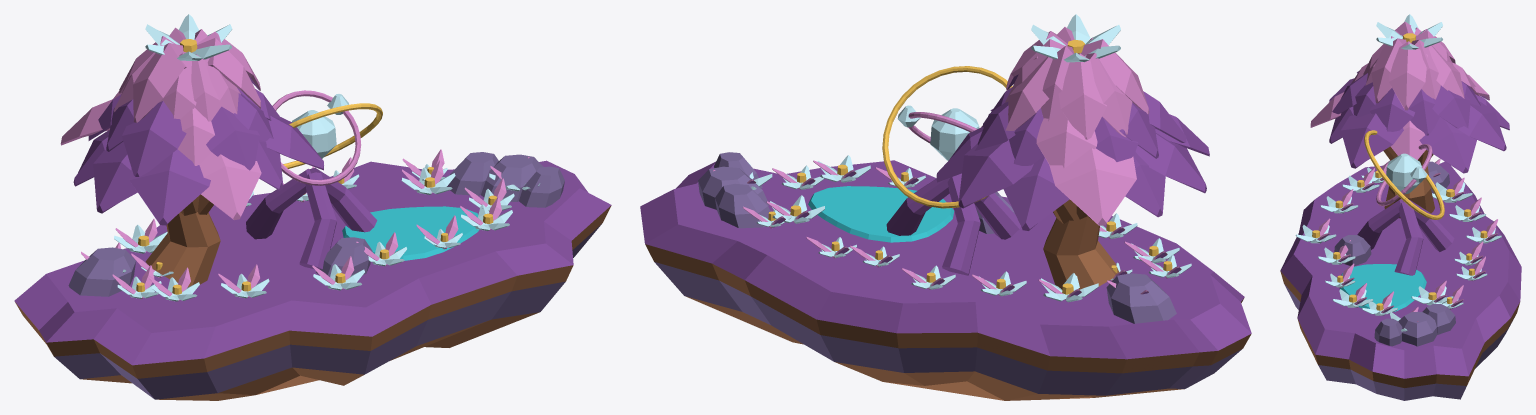
The model's file is nebula.glb.
3 views of the same model, side by side, from view 1: azimuth 30°, elevation 25°; view 2: azimuth 150°, elevation 25°; view 3: azimuth 270°, elevation 25° (orthographic). The views are drawn at different scales.
Parts seen in each view (by area): view 1: terrace-nebula, orrery; view 2: terrace-nebula, orrery; view 3: terrace-nebula, orrery.
Boxes of the visible parts, <box> form: terrace-nebula: <box>14,14,611,400</box>; orrery: <box>272,90,382,185</box>; terrace-nebula: <box>640,14,1251,400</box>; orrery: <box>882,66,1012,208</box>; terrace-nebula: <box>1280,14,1521,400</box>; orrery: <box>1364,130,1444,219</box>.
Size of the model in its own units: 4.71 by 2.78 by 2.29.
